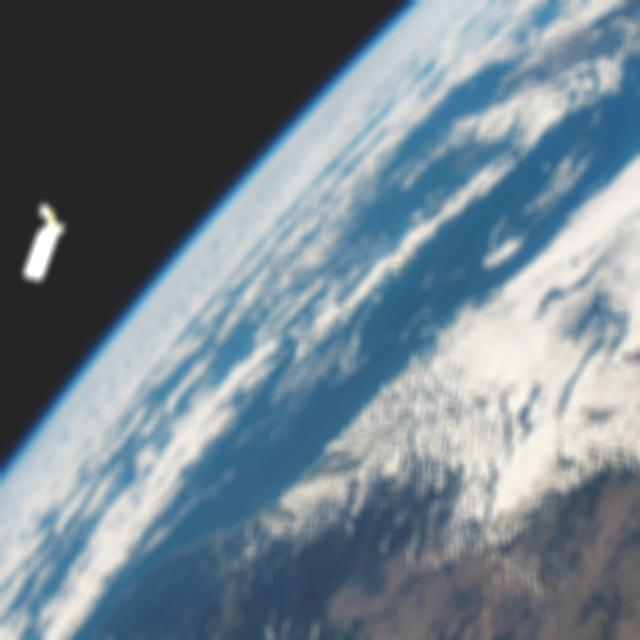satellite: (17, 201, 85, 300)
